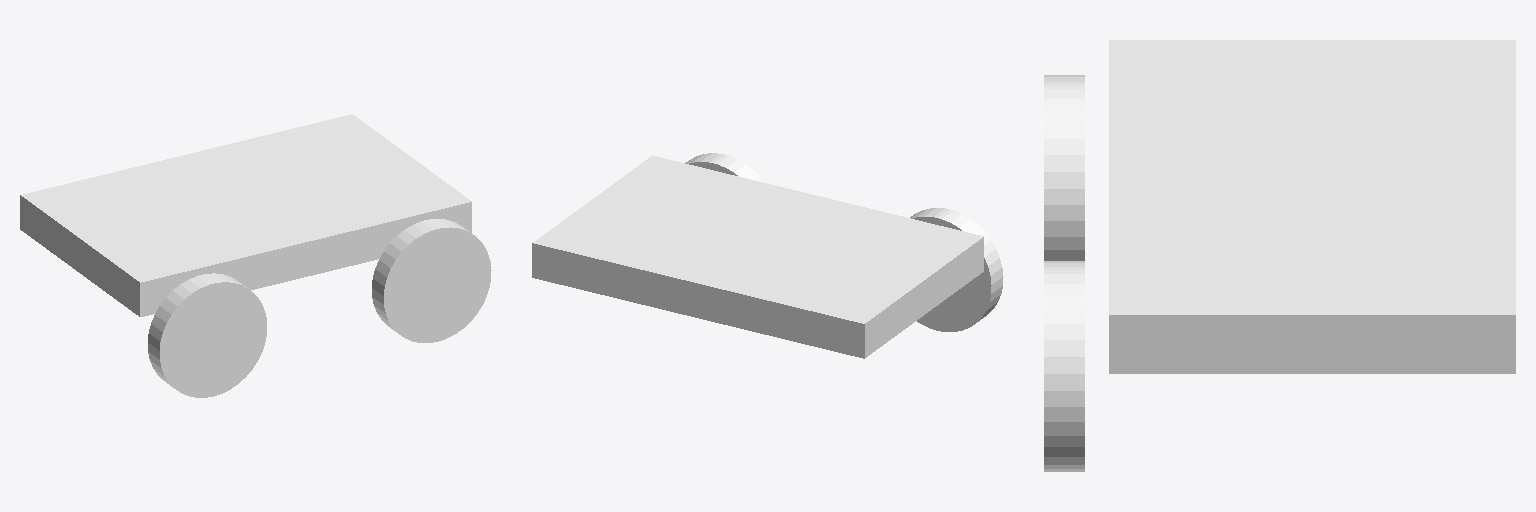
The robot description file, URDF, robot "volanco":
<?xml version="1.0" encoding="utf-8"?>
<!-- This URDF was automatically created by SolidWorks to URDF Exporter! Originally created by [author] ([email redacted]) 
     Commit Version: 1.6.0-1-g15f4949  Build Version: 1.6.7594.29634
     For more information, please see http://wiki.ros.org/sw_urdf_exporter -->
<robot
  name="volanco">
  <link
    name="base_link">
    <inertial>
      <origin
        xyz="-0.0079117 -0.0022664 0.08"
        rpy="0 0 0" />
      <mass
        value="0.032" />
      <inertia
        ixx="6.8373E-06"
        ixy="5.7397E-39"
        ixz="1.0488E-21"
        iyy="2.3733E-05"
        iyz="8.3231E-23"
        izz="1.7237E-05" />
    </inertial>
    <visual>
      <origin
        xyz="0 0 0"
        rpy="0 0 0" />
      <geometry>
        <mesh
          filename="package://volcano_robotsim/rviz/meshes/base_link.STL" />
      </geometry>
      <material
        name="">
        <color
          rgba="1 1 1 1" />
      </material>
    </visual>
    <collision>
      <origin
        xyz="0 0 0"
        rpy="0 0 0" />
      <geometry>
        <mesh
          filename="package://volcano_robotsim/rviz/meshes/base_link.STL" />
      </geometry>
    </collision>
  </link>
  <link
    name="wheel1">
    <inertial>
      <origin
        xyz="0 -0.0025 0"
        rpy="0 0 0" />
      <mass
        value="0.00265464579228337" />
      <inertia
        ixx="1.1768929679123E-07"
        ixy="-4.76817283127017E-24"
        ixz="-2.30791493760239E-39"
        iyy="2.24317569447945E-07"
        iyz="1.038047089733E-23"
        izz="1.1768929679123E-07" />
    </inertial>
    <visual>
      <origin
        xyz="0 0 0"
        rpy="0 0 0" />
      <geometry>
        <mesh
          filename="package://volcano_robotsim/rviz/meshes/wheel1.STL" />
      </geometry>
      <material
        name="">
        <color
          rgba="1 1 1 1" />
      </material>
    </visual>
    <collision>
      <origin
        xyz="0 0 0"
        rpy="0 0 0" />
      <geometry>
        <mesh
          filename="package://volcano_robotsim/rviz/meshes/wheel1.STL" />
      </geometry>
    </collision>
  </link>
  <joint
    name="wheel1"
    type="continuous">
    <origin
      xyz="-0.034912 -0.047 -0.011266"
      rpy="0 0 0" />
    <parent
      link="base_link" />
    <child
      link="wheel1" />
    <axis
      xyz="0 1 0" />
  </joint>
  <link
    name="wheel2">
    <inertial>
      <origin
        xyz="0 -0.0025 0"
        rpy="0 0 0" />
      <mass
        value="0.00265464579228337" />
      <inertia
        ixx="1.1768929679123E-07"
        ixy="-4.76817283127017E-24"
        ixz="-2.30791493760239E-39"
        iyy="2.24317569447945E-07"
        iyz="1.038047089733E-23"
        izz="1.1768929679123E-07" />
    </inertial>
    <visual>
      <origin
        xyz="0 0 0"
        rpy="0 0 0" />
      <geometry>
        <mesh
          filename="package://volcano_robotsim/rviz/meshes/wheel2.STL" />
      </geometry>
      <material
        name="">
        <color
          rgba="1 1 1 1" />
      </material>
    </visual>
    <collision>
      <origin
        xyz="0 0 0"
        rpy="0 0 0" />
      <geometry>
        <mesh
          filename="package://volcano_robotsim/rviz/meshes/wheel2.STL" />
      </geometry>
    </collision>
  </link>
  <joint
    name="wheel2"
    type="continuous">
    <origin
      xyz="0.019088 -0.047 -0.011266"
      rpy="0 0 0" />
    <parent
      link="base_link" />
    <child
      link="wheel2" />
    <axis
      xyz="0 1 0" />
  </joint>
  <link
    name="wheel3">
    <inertial>
      <origin
        xyz="0 -0.00249999999999999 0"
        rpy="0 0 0" />
      <mass
        value="0.00265464579228338" />
      <inertia
        ixx="1.1768929679123E-07"
        ixy="-4.76817283127017E-24"
        ixz="-1.04557617051017E-39"
        iyy="2.24317569447945E-07"
        iyz="1.14833783807341E-23"
        izz="1.1768929679123E-07" />
    </inertial>
    <visual>
      <origin
        xyz="0 0 0"
        rpy="0 0 0" />
      <geometry>
        <mesh
          filename="package://volcano_robotsim/rviz/meshes/wheel3.STL" />
      </geometry>
      <material
        name="">
        <color
          rgba="1 1 1 1" />
      </material>
    </visual>
    <collision>
      <origin
        xyz="0 0 0"
        rpy="0 0 0" />
      <geometry>
        <mesh
          filename="package://volcano_robotsim/rviz/meshes/wheel3.STL" />
      </geometry>
    </collision>
  </link>
  <joint
    name="wheel3"
    type="continuous">
    <origin
      xyz="-0.034912 -0.108 -0.011266"
      rpy="0 0 0" />
    <parent
      link="base_link" />
    <child
      link="wheel3" />
    <axis
      xyz="0 1 0" />
  </joint>
  <link
    name="wheel4">
    <inertial>
      <origin
        xyz="0 0 0"
        rpy="0 0 0" />
      <mass
        value="0" />
      <inertia
        ixx="0"
        ixy="0"
        ixz="0"
        iyy="0"
        iyz="0"
        izz="0" />
    </inertial>
    <visual>
      <origin
        xyz="0 0 0"
        rpy="0 0 0" />
      <geometry>
        <mesh
          filename="package://volcano_robotsim/rviz/meshes/wheel4.STL" />
      </geometry>
      <material
        name="">
        <color
          rgba="1 1 1 1" />
      </material>
    </visual>
    <collision>
      <origin
        xyz="0 0 0"
        rpy="0 0 0" />
      <geometry>
        <mesh
          filename="package://volcano_robotsim/rviz/meshes/wheel4.STL" />
      </geometry>
    </collision>
  </link>
  <joint
    name="wheel4"
    type="continuous">
    <origin
      xyz="0.019088 -0.108 -0.011266"
      rpy="0 0 0" />
    <parent
      link="base_link" />
    <child
      link="wheel4" />
    <axis
      xyz="0 1 0" />
  </joint>
</robot>

--- Facts derived from the render (not from the file) ---
3 views of the same robot in one strip: view 1: azimuth 30°, elevation 25°; view 2: azimuth 150°, elevation 25°; view 3: azimuth 270°, elevation 25° (orthographic).
Robot: volanco — 5 links, 4 joints (4 continuous); root link base_link; default pose: every joint at zero.
Visible links, largest first — view 1: base_link, wheel3, wheel4; view 2: base_link, wheel3, wheel4; view 3: base_link, wheel4, wheel3.
Boxes of the visible links, left/top/right/bottom form: base_link: left=20, top=114, right=471, bottom=316; wheel3: left=148, top=273, right=266, bottom=397; wheel4: left=372, top=219, right=491, bottom=342; base_link: left=532, top=155, right=983, bottom=358; wheel3: left=910, top=208, right=1003, bottom=331; wheel4: left=685, top=153, right=764, bottom=182; base_link: left=1109, top=40, right=1515, bottom=373; wheel4: left=1044, top=261, right=1084, bottom=471; wheel3: left=1044, top=75, right=1084, bottom=260.
Size in the robot's own frame: 0.08 by 0.058 by 0.026 metres.
3 mesh visuals loaded from 5 distinct referenced files (3 binary STL); not drawn: 2 (reference not matched to a file when rendering).